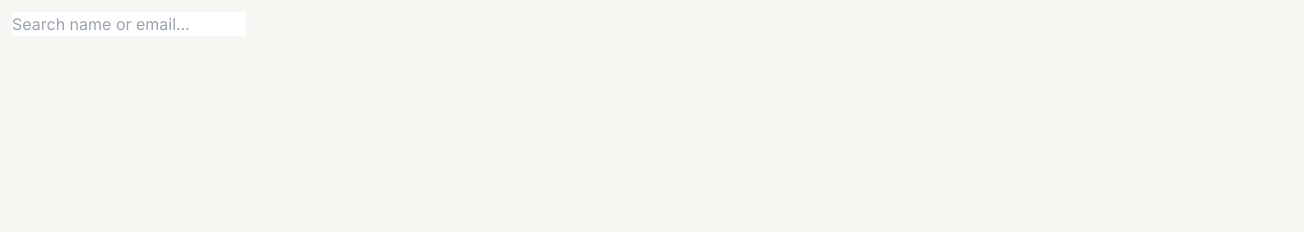
ContactEmailAutocomplete keyboard and filtering › highlights suggestions with the arrow keys and selects one with Enter
Type "al" into the dropdown labelled "email" at point(129, 24), box top-left (12, 12), bottom-right (246, 36)
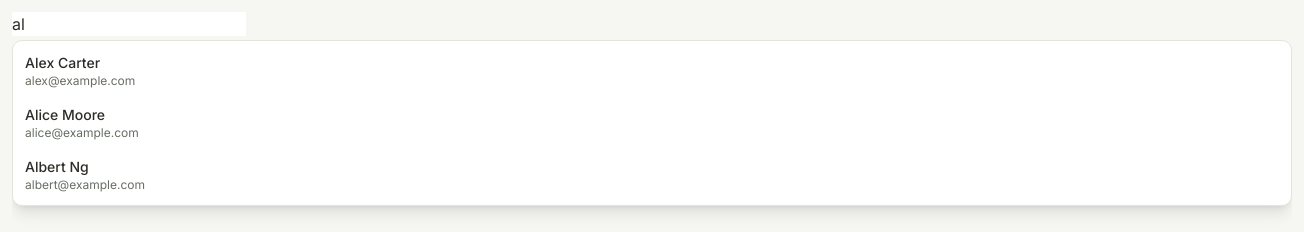
Check: the list is shown
Check: the dropdown named "email" is expanded
Press ArrowDown in the dropdown named "email", box top-left (12, 12), bottom-right (246, 36)
Press ArrowDown in the dropdown named "email", box top-left (12, 12), bottom-right (246, 36)
Press ArrowUp in the dropdown named "email", box top-left (12, 12), bottom-right (246, 36)
Press ArrowUp in the dropdown named "email", box top-left (12, 12), bottom-right (246, 36)
Press Enter in the dropdown named "email", box top-left (12, 12), bottom-right (246, 36)
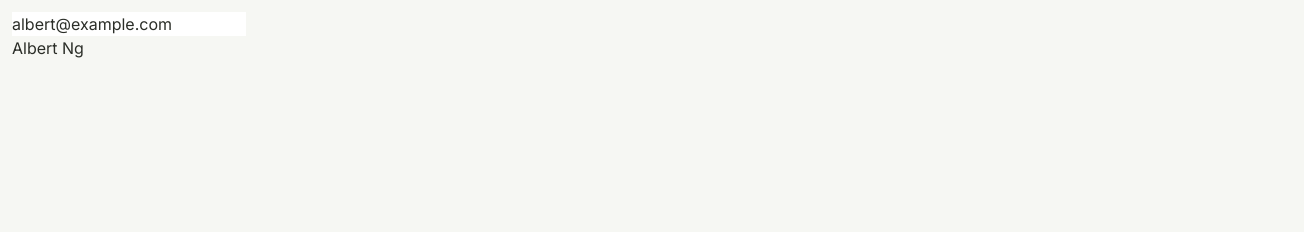
Check: the text with test id "selected-name" reads "Albert Ng", box top-left (12, 38), bottom-right (84, 58)
Check: the dropdown named "email" holds "albert@example.com", box top-left (12, 12), bottom-right (246, 36)
Check: the list is gone
